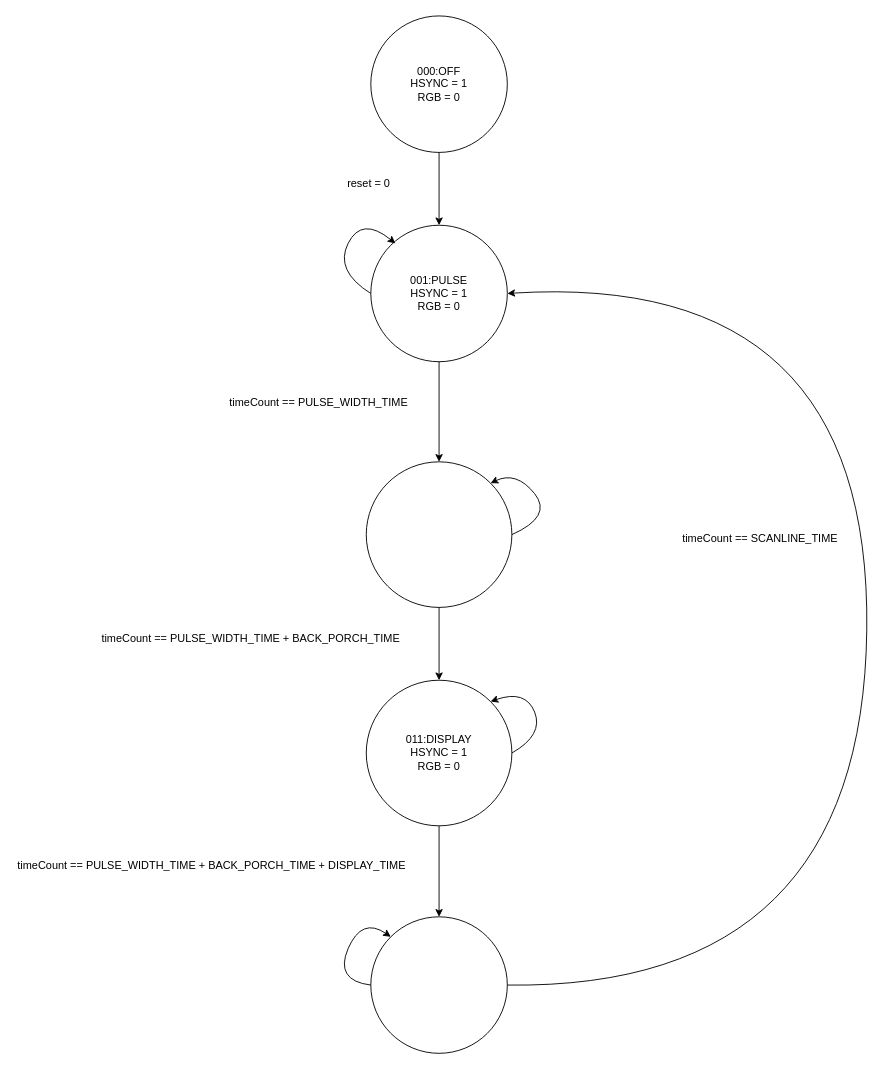
Some shapes in this 883 by 1069 pixel diagram are drawn without their labels. The centre of each missing label's shape, as x and y in pixels:
"010:BACK_PORCH HSYNC = 1 RGB = 0" belongs at (x=438, y=534).
"100:FRONT_PORCH HSYNC = 1 RGB = 0" belongs at (x=438, y=984).
